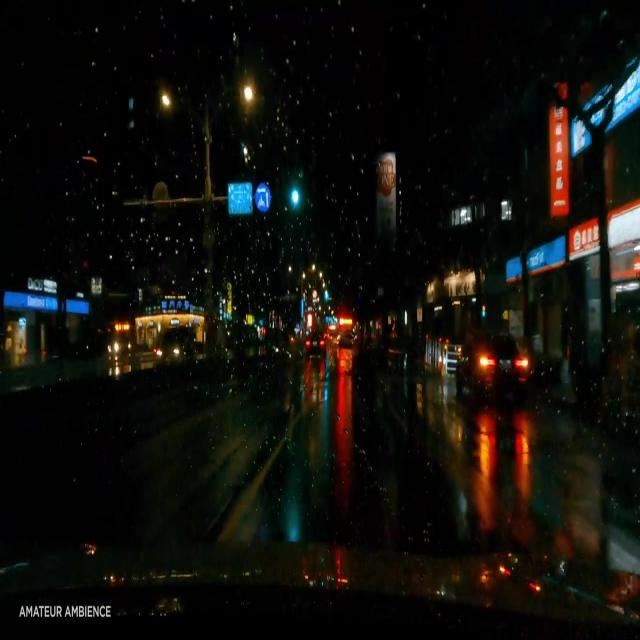Car: (454, 331, 528, 394), (153, 332, 189, 360), (304, 326, 325, 360)
